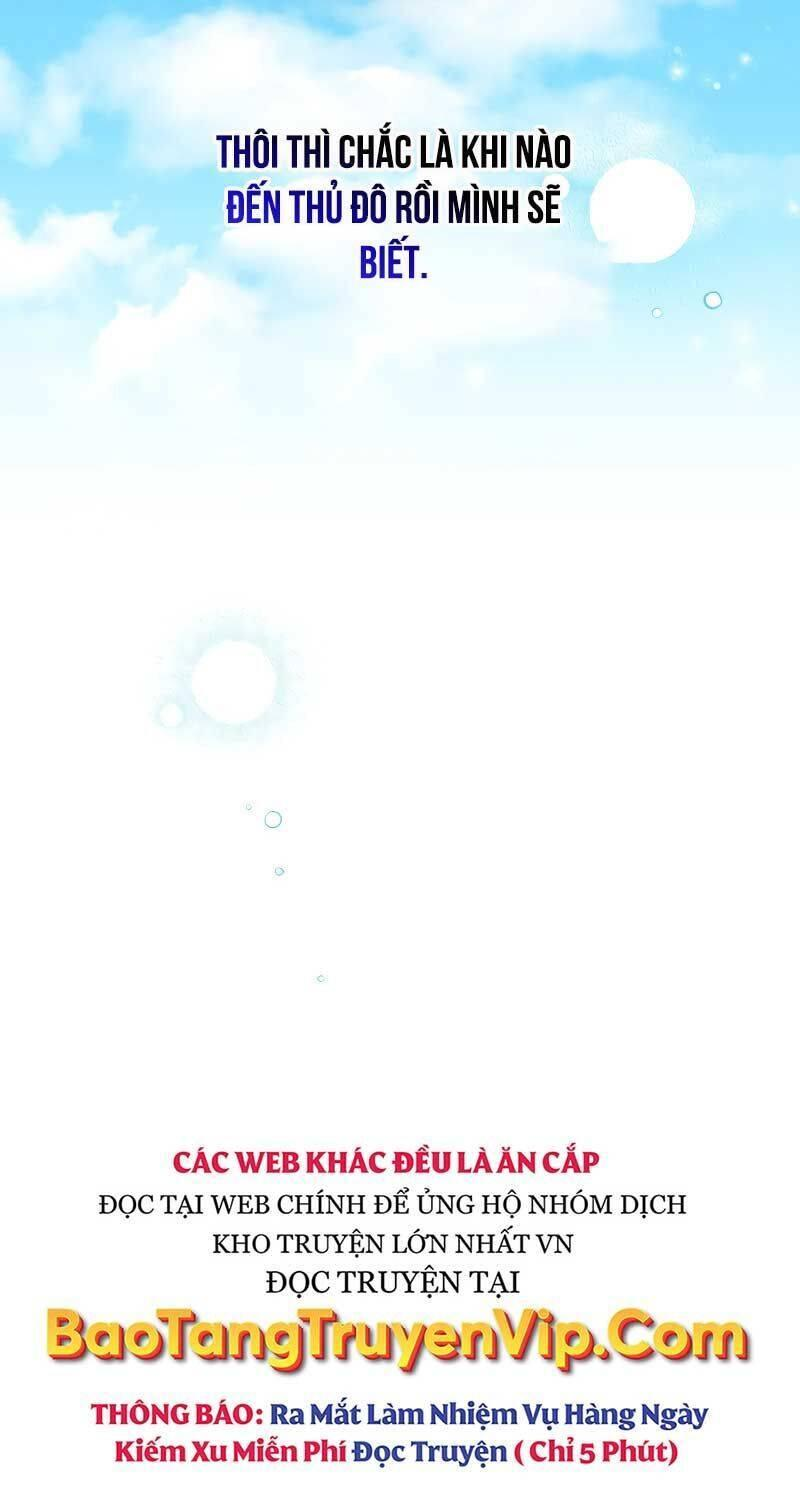quangcao: (42, 1138, 760, 1470)
